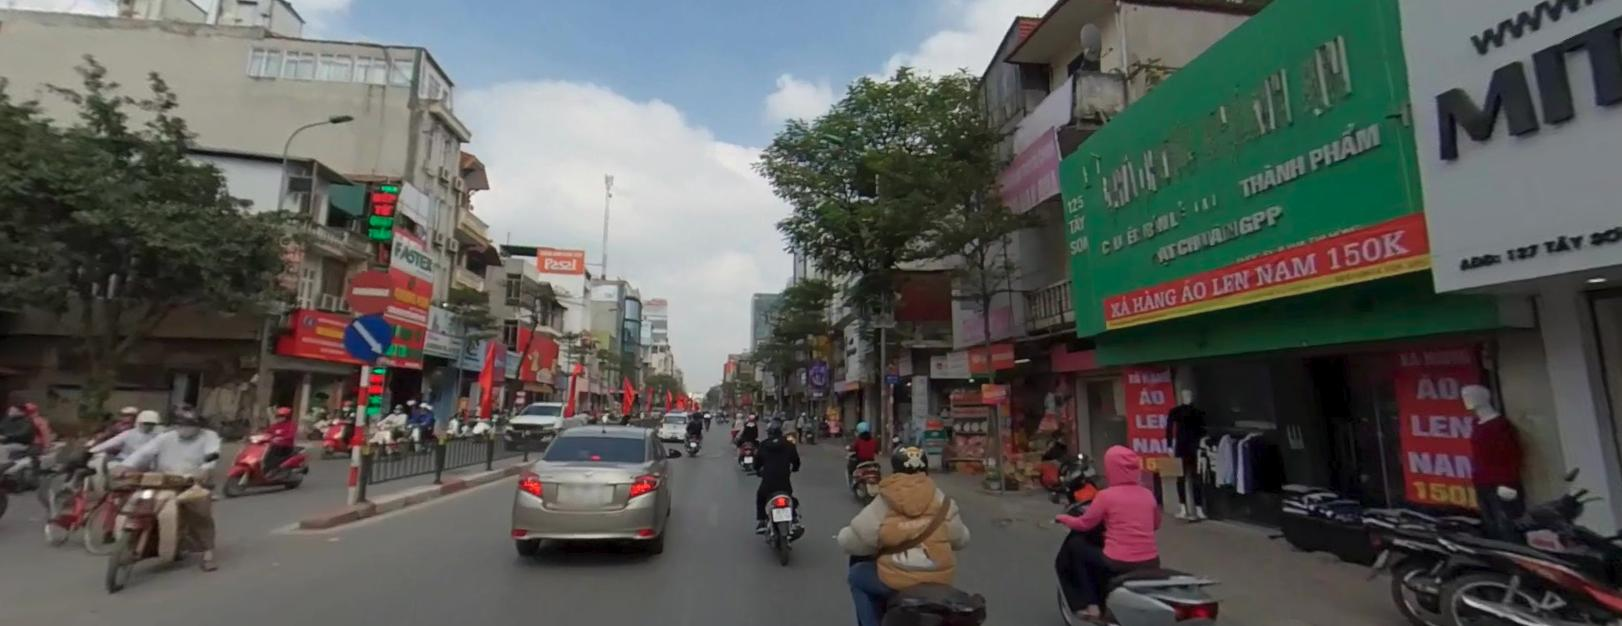Cam nguoc chieu: (344, 268, 393, 312)
Hieu lenh: (343, 315, 392, 363)
